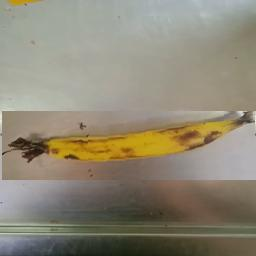Banana Rotten: (2, 111, 256, 180)
